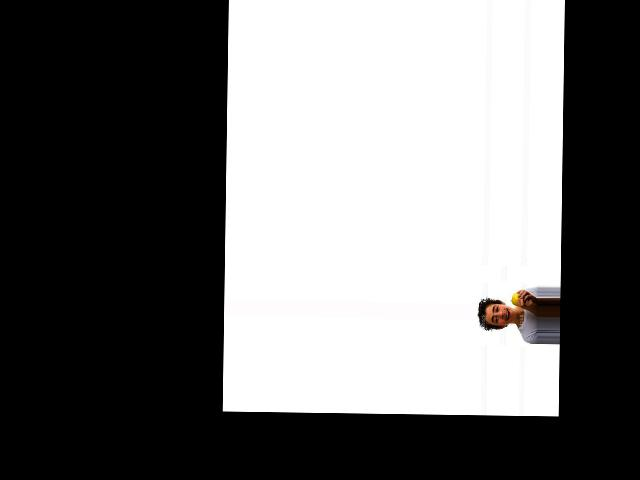apple: (510, 288, 526, 306)
